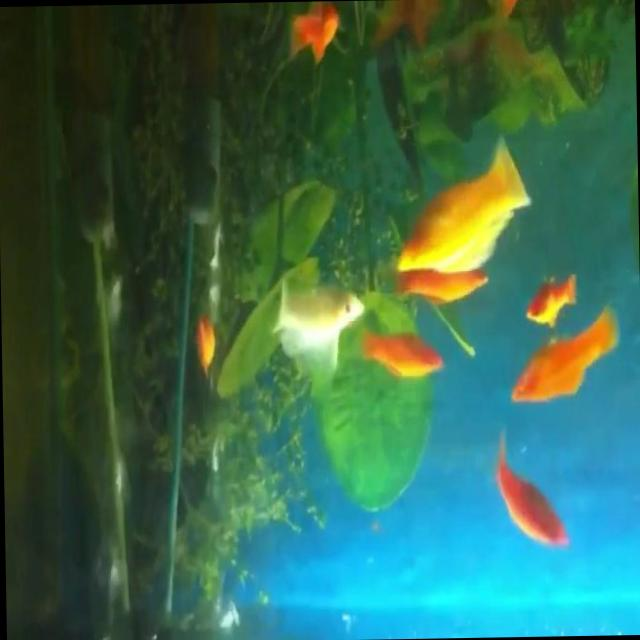PlatyFish: (388, 125, 536, 282), (503, 301, 622, 411), (264, 268, 368, 392), (484, 421, 573, 557), (358, 322, 451, 392), (518, 264, 581, 332)
